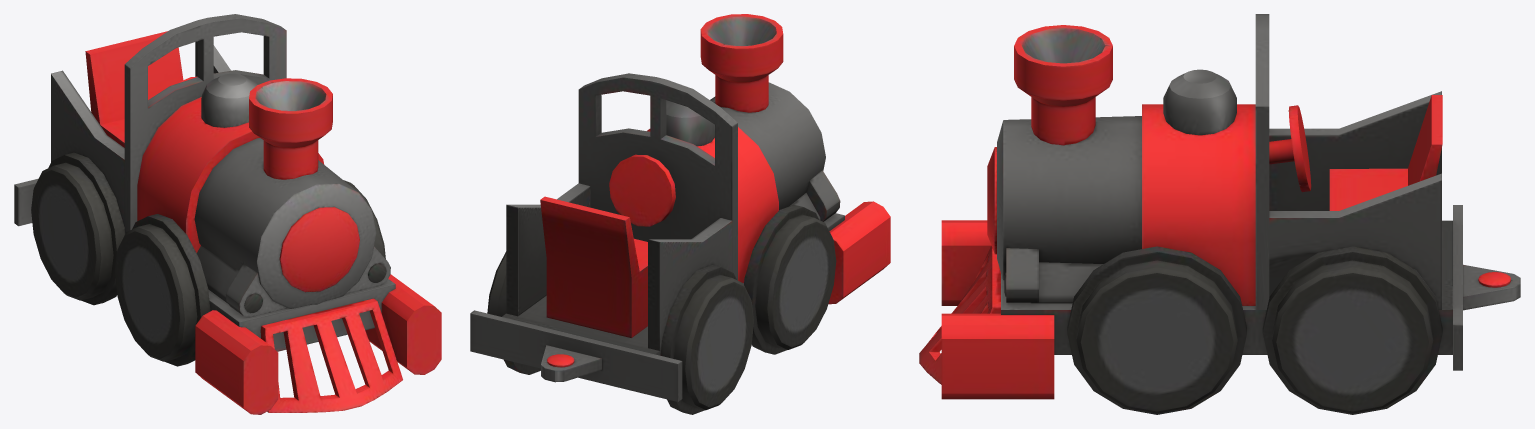
The model's file is huochetou.fbx.
The picture shows the model from 3 angles, left to right: view 1: azimuth 30°, elevation 25°; view 2: azimuth 150°, elevation 25°; view 3: azimuth 270°, elevation 25°; orthographic projection. The views are drawn at different scales.
Visible parts, largest first — view 1: polySurface79; view 2: polySurface79; view 3: polySurface79.
Boxes of the visible parts, <box> form: polySurface79: <box>14,14,441,414</box>; polySurface79: <box>470,14,890,414</box>; polySurface79: <box>919,14,1520,414</box>.
Bounding box in the file's own units: 1493 × 3144 × 1925.
